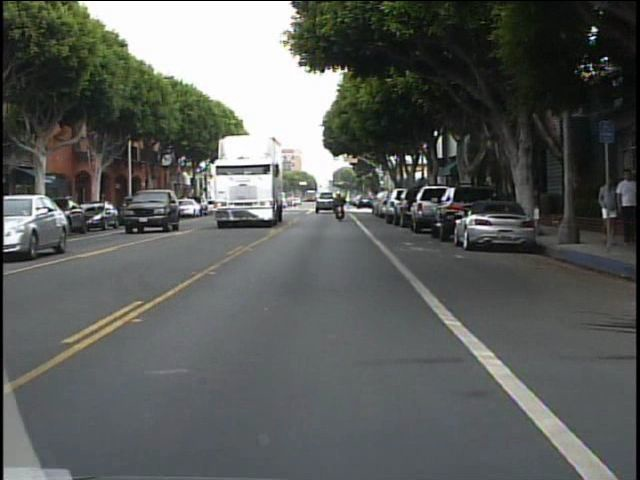person: (331, 190, 350, 221)
